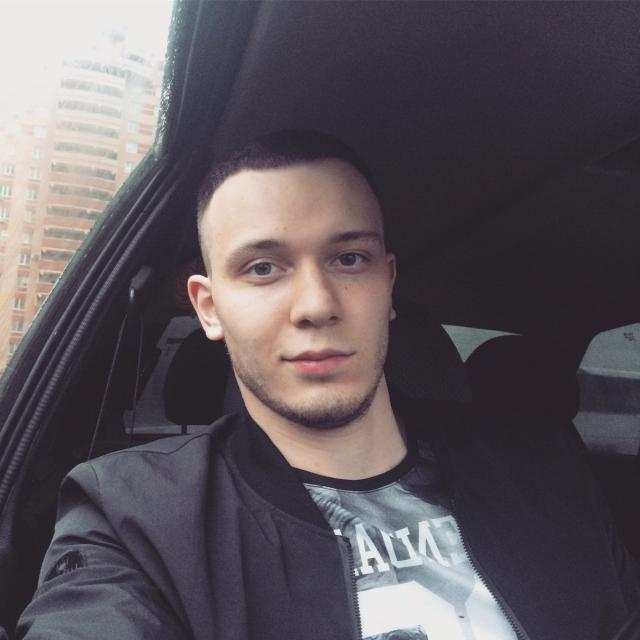earlobe: (206, 318, 225, 342)
eye: (241, 257, 289, 281), (328, 250, 372, 270)
nose: (291, 317, 347, 340)
wholeear: (188, 275, 225, 342), (384, 252, 397, 321)
